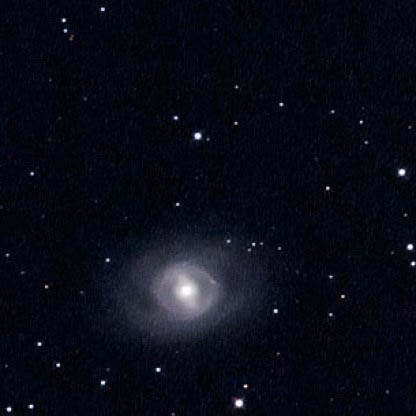Messier 95: (96, 231, 275, 344)
